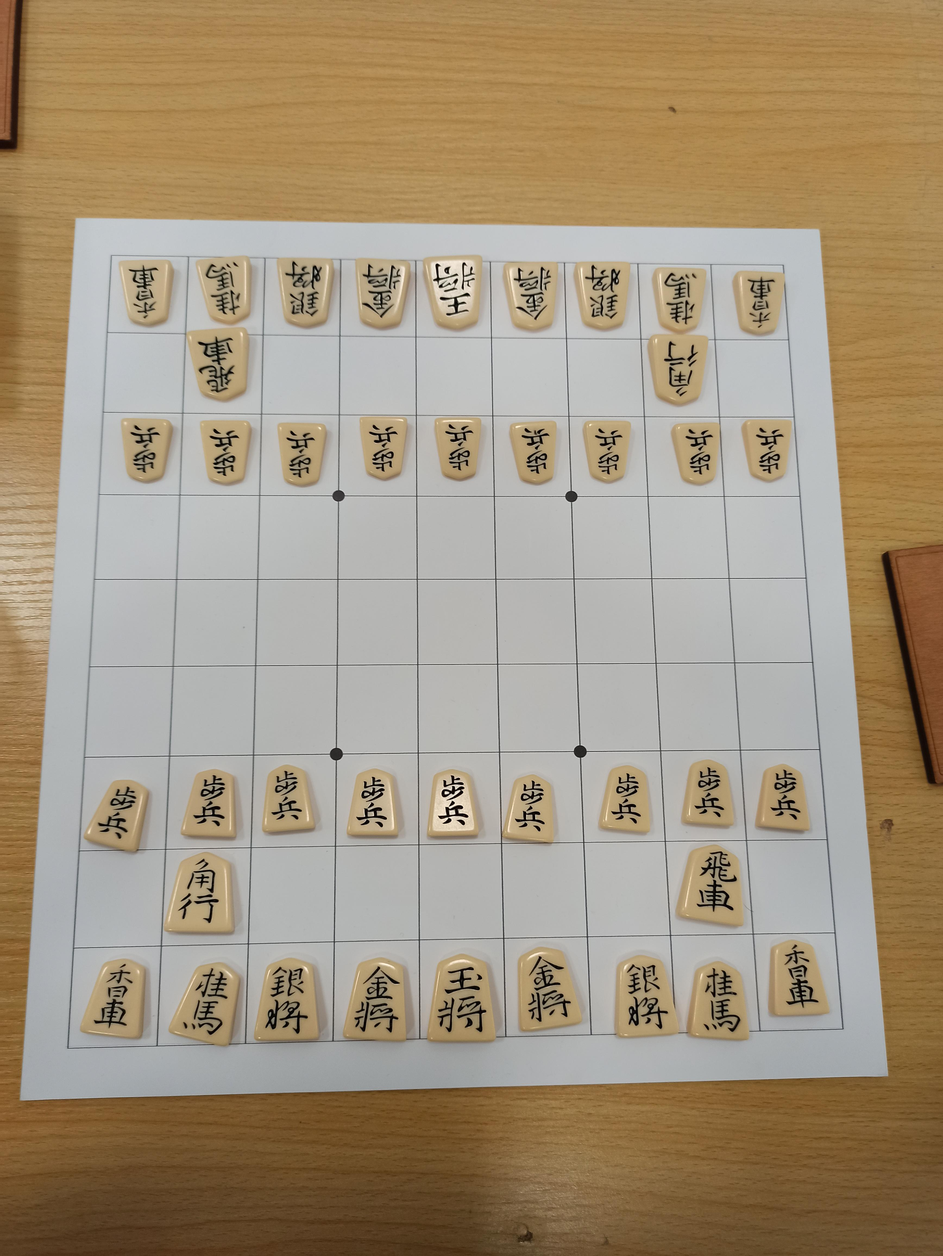board: (68, 255, 843, 1050)
